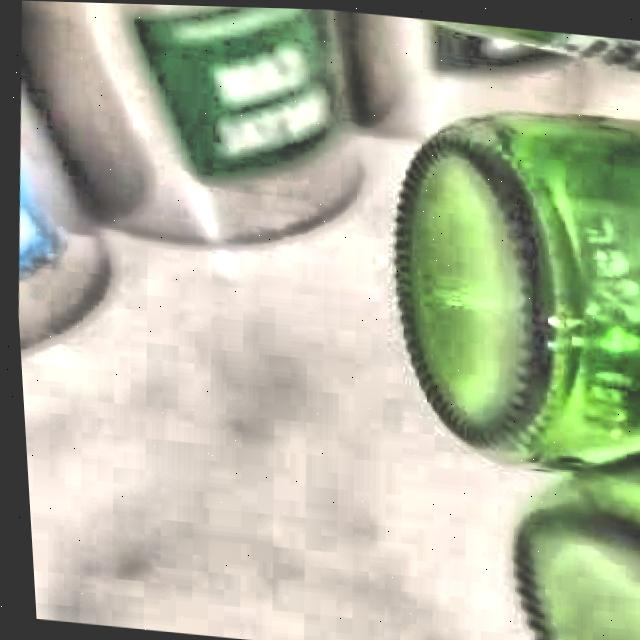glass: (392, 111, 640, 640)
